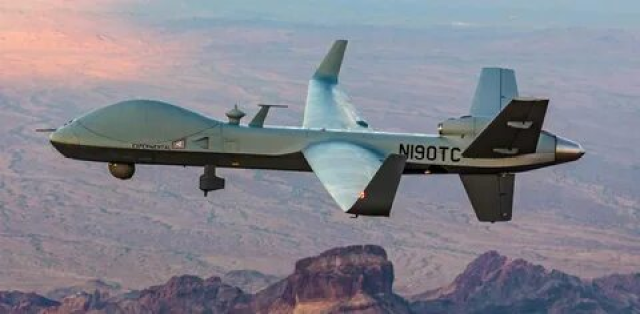military drone: (35, 39, 585, 224)
